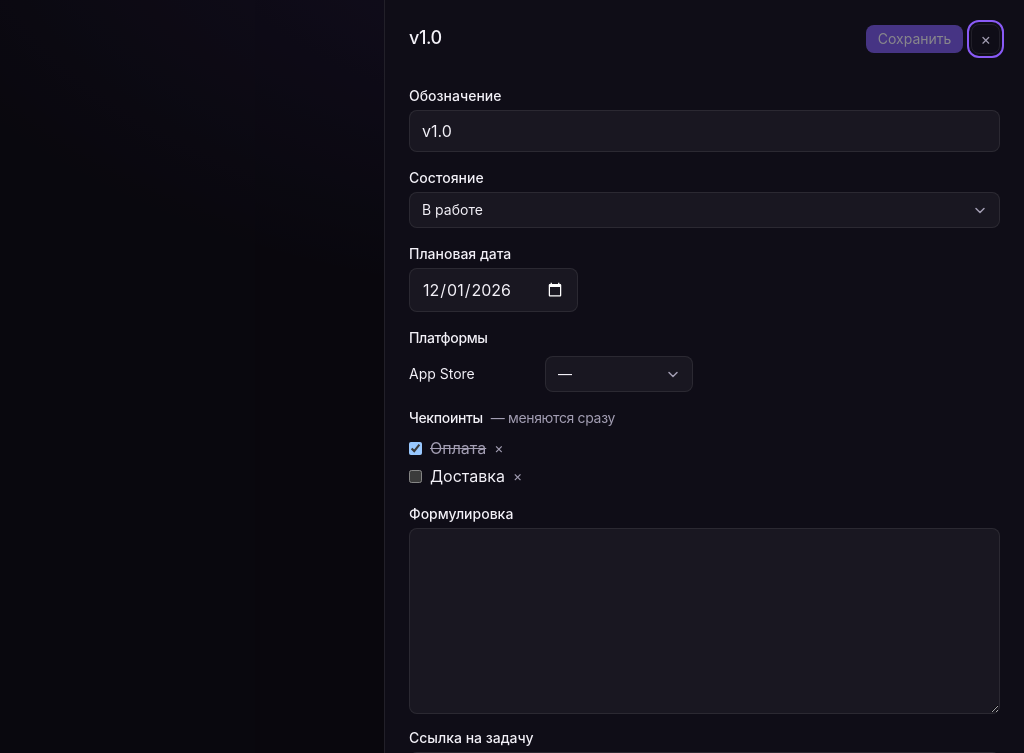
Test: VersionDrawer › выпуски платформ › дата видна только у «в релизе»
This screenshot has width=1024, height=753.
Select "на модерации" in the dropdown named "Состояние App Store". click: (619, 374)
box: [545,356,693,392]
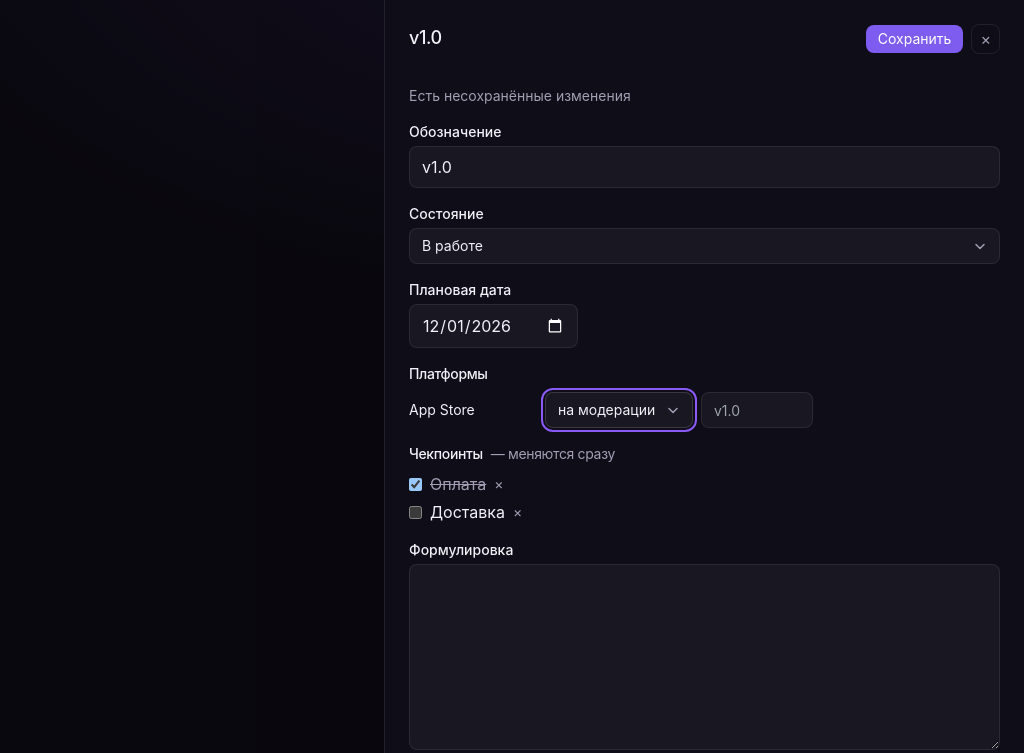
Expected: the field named "Сборка App Store" is shown, [701,392,813,428]
